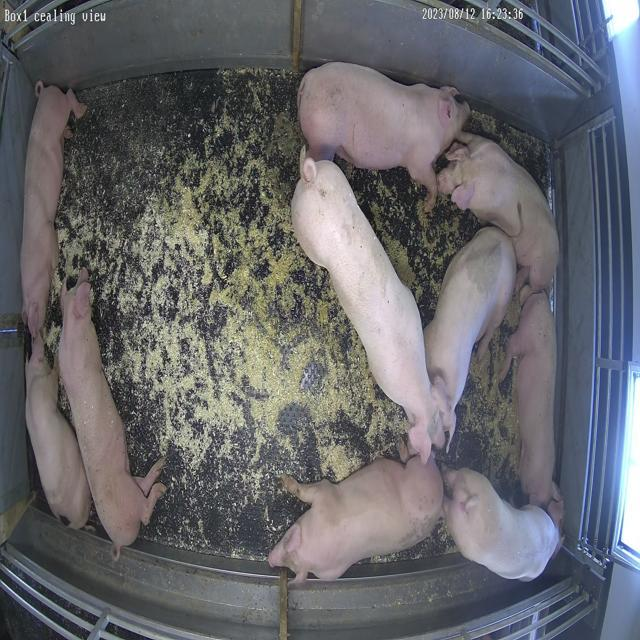Dirt: (349, 168, 481, 310), (261, 110, 305, 210)
Pig: (292, 157, 435, 464), (58, 270, 166, 556), (298, 62, 471, 210), (268, 457, 444, 583), (425, 227, 517, 450), (438, 132, 560, 292), (20, 81, 86, 338), (445, 469, 561, 582), (25, 336, 90, 530), (507, 290, 563, 508)
